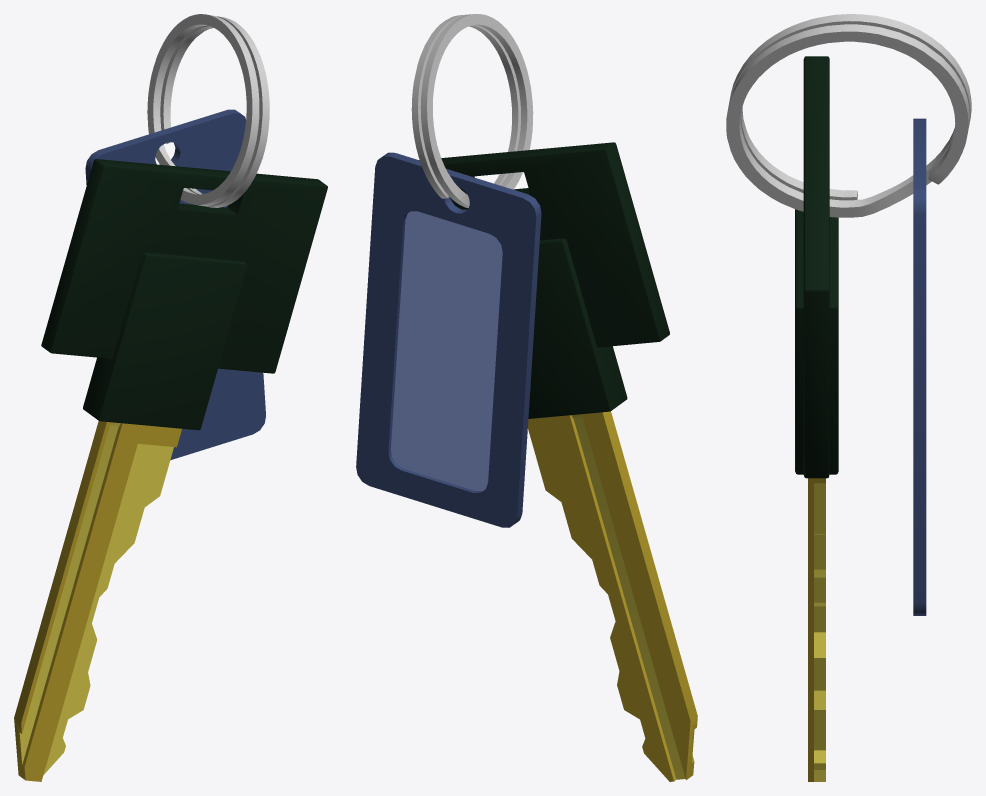
Rendered from Key With Tag.glb.
3 renders of one model, left to right at view 1: azimuth 30°, elevation 25°; view 2: azimuth 150°, elevation 25°; view 3: azimuth 270°, elevation 25°, orthographic. The views are drawn at different scales.
Visible parts, largest first — view 1: Key11_with_tag.001; view 2: Key11_with_tag.001; view 3: Key11_with_tag.001.
Boxes of the visible parts, x1,y1,x2,y2 form: Key11_with_tag.001: (14,14,327,781); Key11_with_tag.001: (356,14,697,781); Key11_with_tag.001: (726,14,971,781).
Bounding box in the file's own units: 0.5812 × 1.27 × 0.3187.
1 material, 1 textured.
